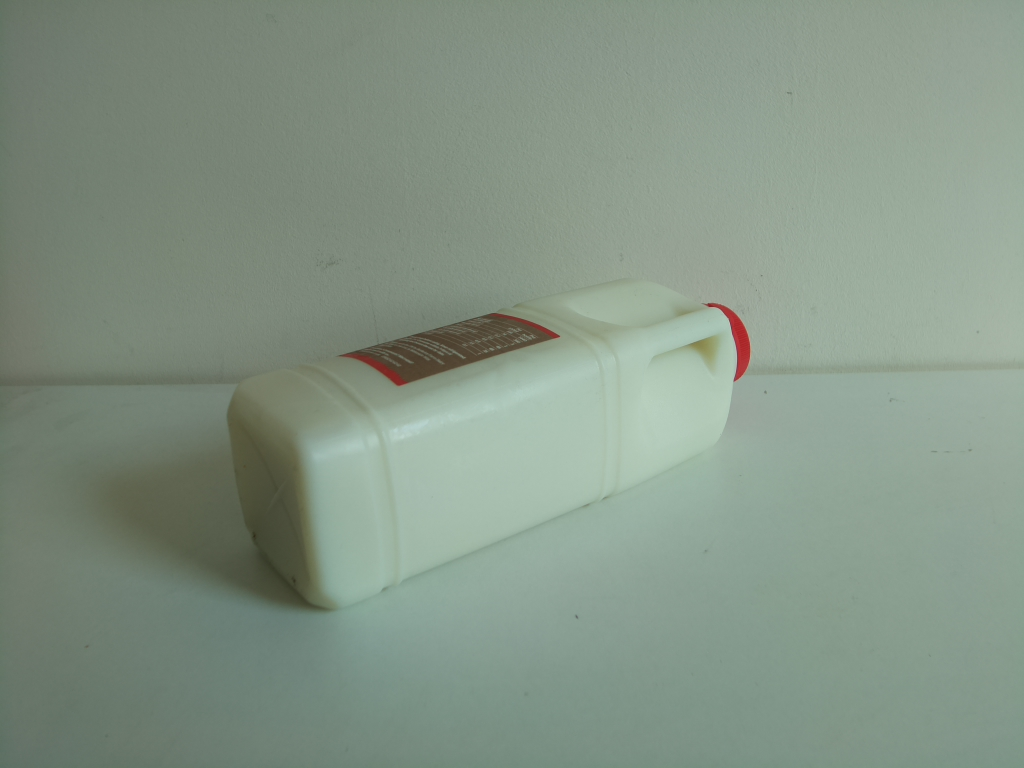milk: (222, 273, 759, 614)
